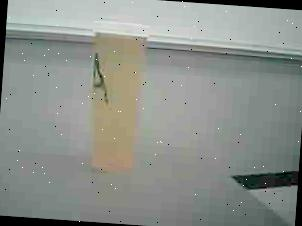Bottle A: (89, 22, 147, 171)
